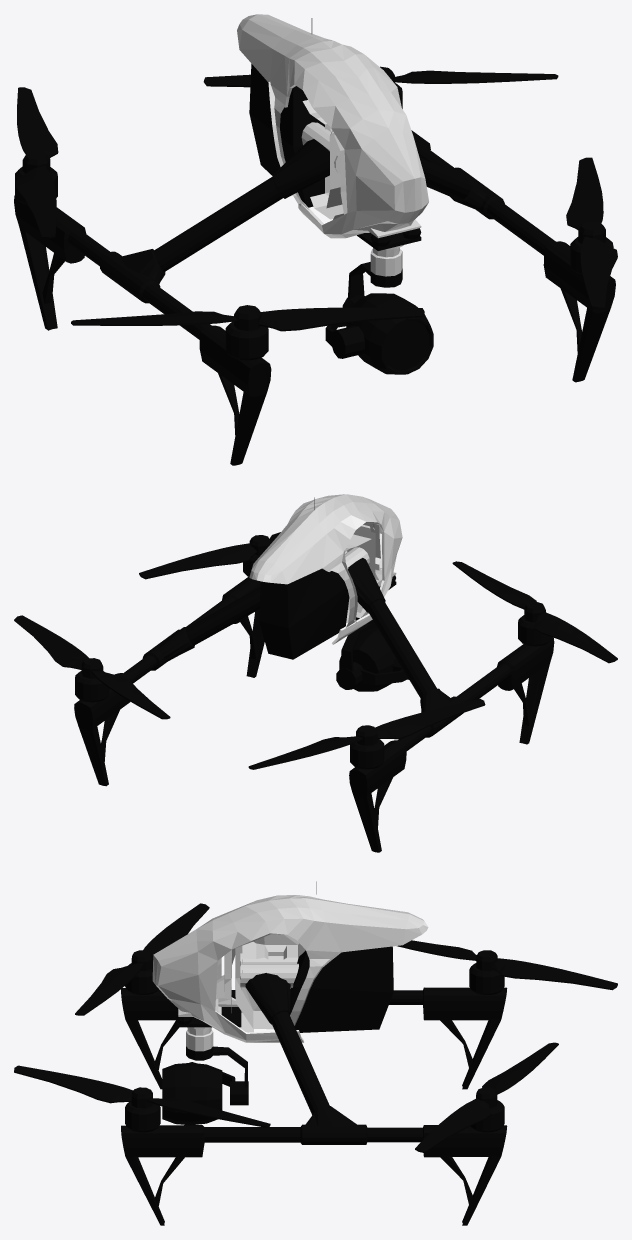
File: Inspire.gltf
3 renders of one model, top to bottom at view 1: azimuth 30°, elevation 25°; view 2: azimuth 150°, elevation 25°; view 3: azimuth 270°, elevation 25°, orthographic. The views are drawn at different scales.
Bounding box in the file's own units: 0.6477 × 0.3352 × 0.6698.
